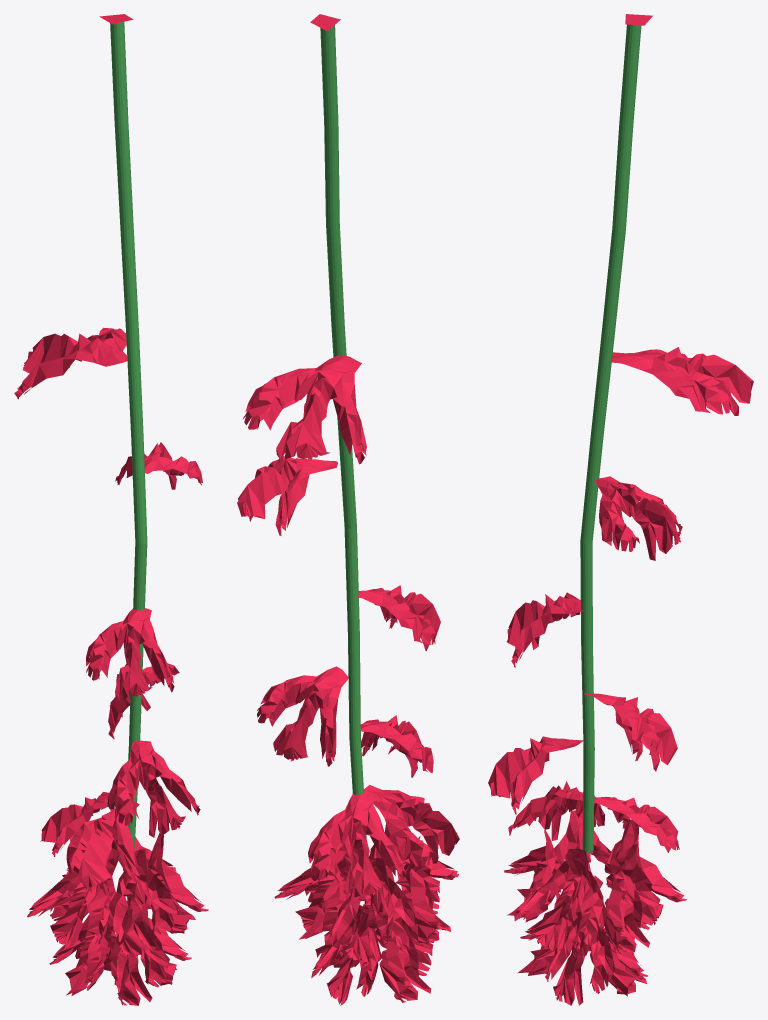
The model's file is flor2.obj.
3 renders of one model, left to right at view 1: azimuth 30°, elevation 25°; view 2: azimuth 150°, elevation 25°; view 3: azimuth 270°, elevation 25°, orthographic. The views are drawn at different scales.
Visible parts, largest first — view 1: Indian_Paintbrush.1; view 2: Indian_Paintbrush.1; view 3: Indian_Paintbrush.1.
Boxes of the visible parts, left/top/right/bottom form: Indian_Paintbrush.1: left=14, top=14, right=208, bottom=1005; Indian_Paintbrush.1: left=237, top=14, right=459, bottom=1005; Indian_Paintbrush.1: left=488, top=14, right=753, bottom=1005.
Bounding box in the file's own units: 37.89 × 189 × 46.54.
